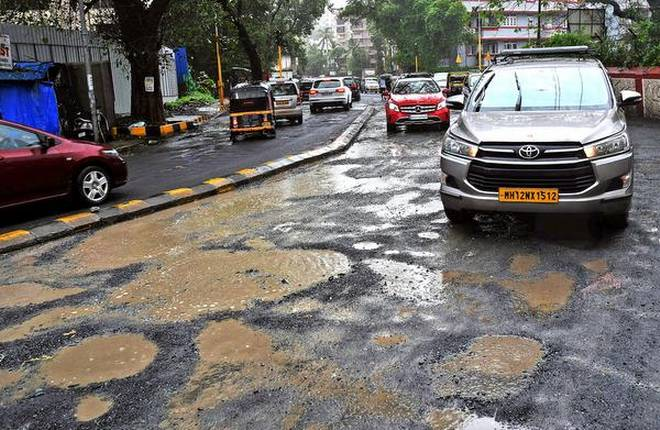pothole: (120, 239, 360, 321), (59, 195, 232, 267), (34, 337, 163, 400), (483, 256, 583, 325), (446, 327, 554, 378), (0, 283, 81, 308)
